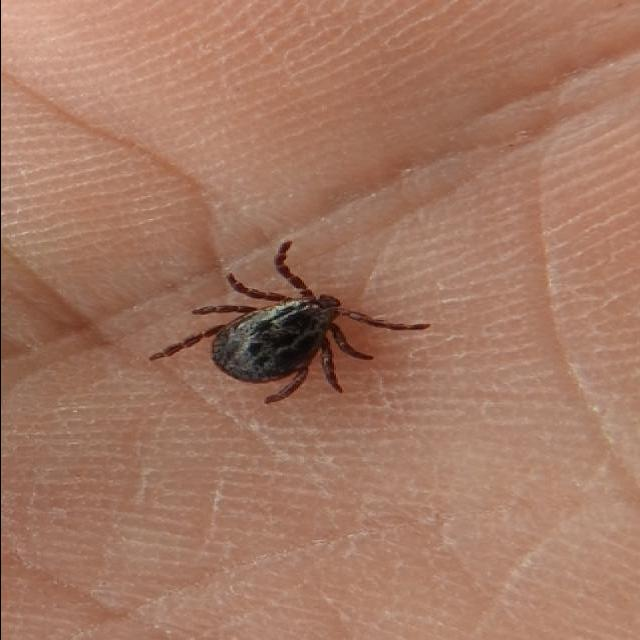Dermacentor Reticulatus-M: (148, 239, 431, 403)
